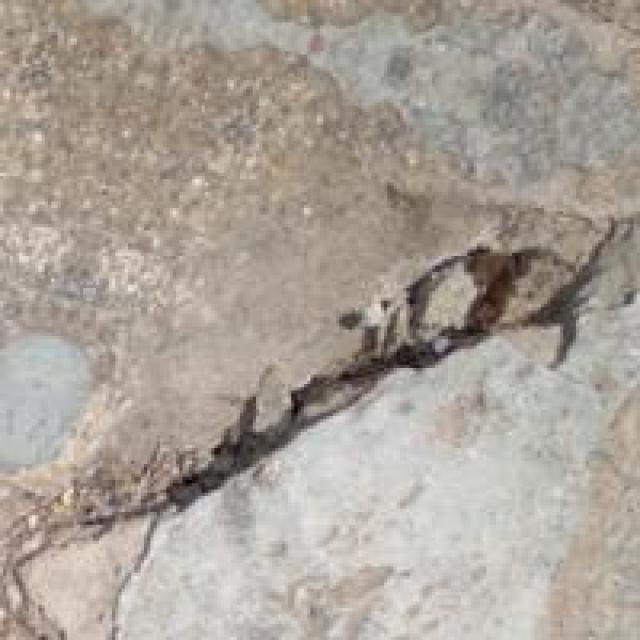Crack: (31, 218, 606, 576)
